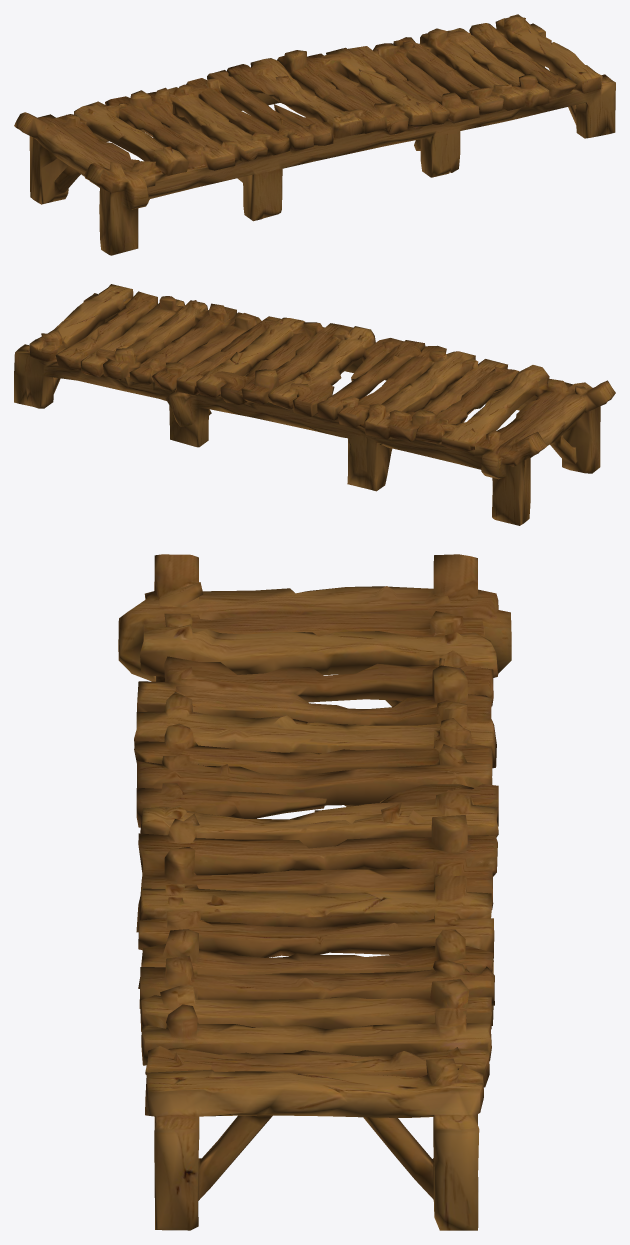
The model's file is bridge.glb.
The picture shows the model from 3 angles, top to bottom: view 1: azimuth 30°, elevation 25°; view 2: azimuth 150°, elevation 25°; view 3: azimuth 270°, elevation 25°; orthographic projection. The views are drawn at different scales.
Parts seen in each view (by area): view 1: tripo_node_a47aaacc-a453-4ddb-935c-467a85be6567; view 2: tripo_node_a47aaacc-a453-4ddb-935c-467a85be6567; view 3: tripo_node_a47aaacc-a453-4ddb-935c-467a85be6567.
Boxes of the visible parts, box(x1,y1,x2,y2) form: tripo_node_a47aaacc-a453-4ddb-935c-467a85be6567: box(14, 14, 615, 255); tripo_node_a47aaacc-a453-4ddb-935c-467a85be6567: box(14, 284, 615, 525); tripo_node_a47aaacc-a453-4ddb-935c-467a85be6567: box(118, 554, 511, 1230).
Bounding box in the file's own units: 1 × 0.1629 × 0.3264.
1 material, 1 textured.
